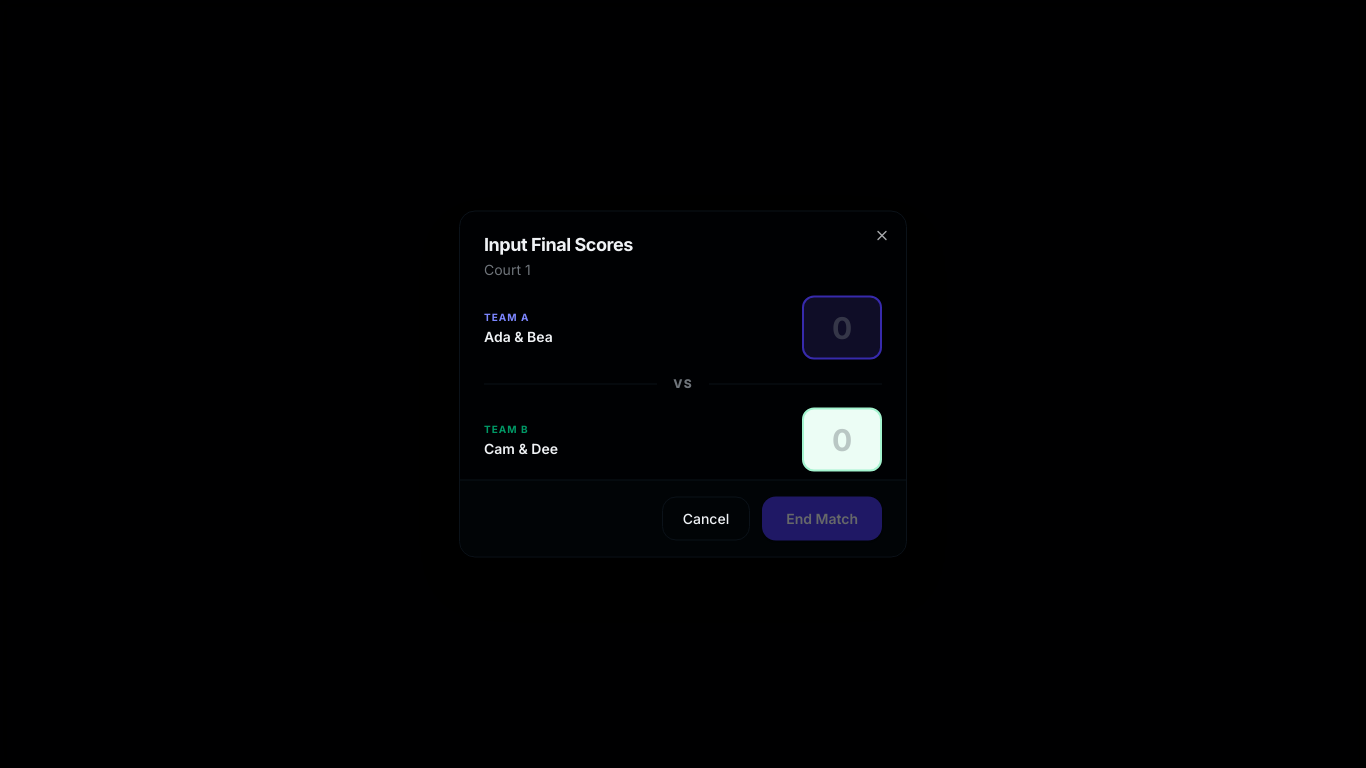
ScoreModal dismiss while pending › SM-1: Cancel stays enabled while Saving…
Type "21" into the number field with placeholder "0" in the row of "Ada & Bea" at point(842, 328), box [802, 296, 882, 360]
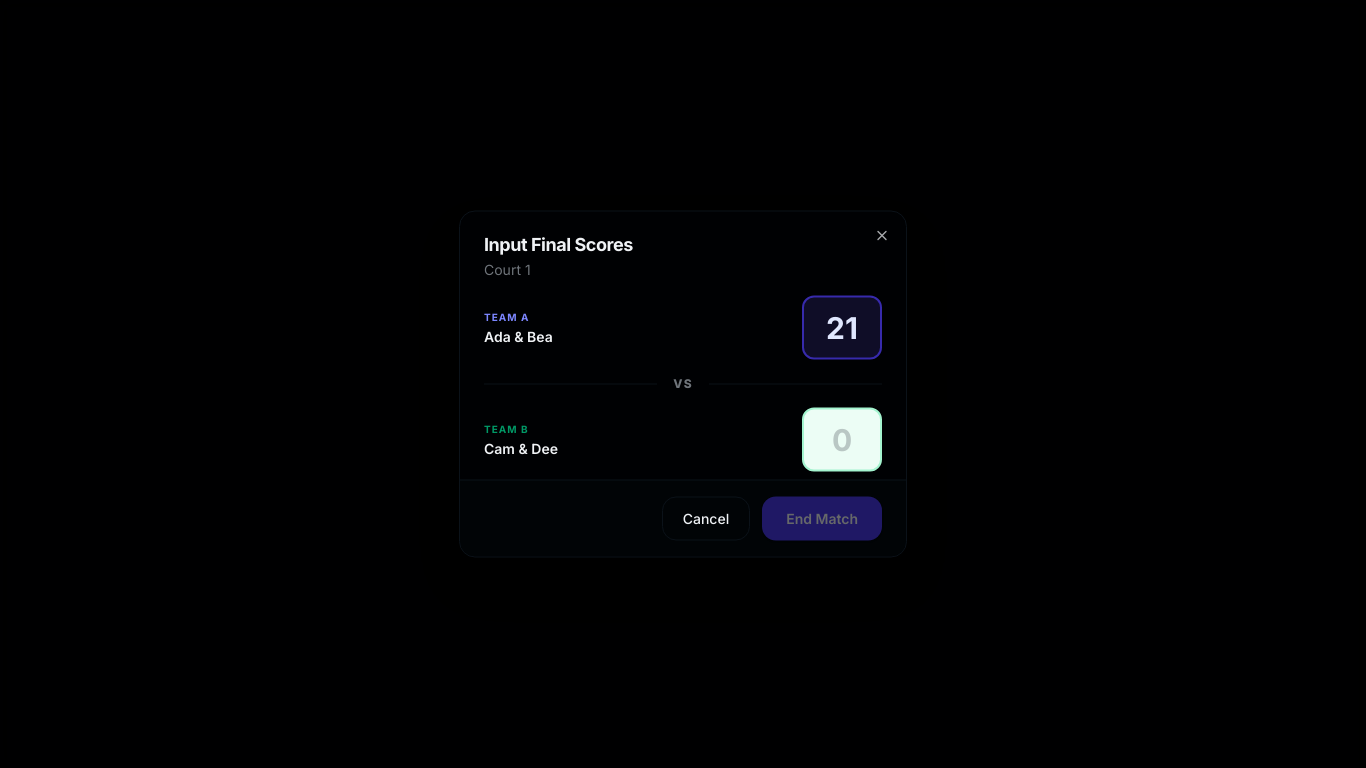
Type "18" into the number field with placeholder "0" at point(842, 440), box [802, 408, 882, 472]
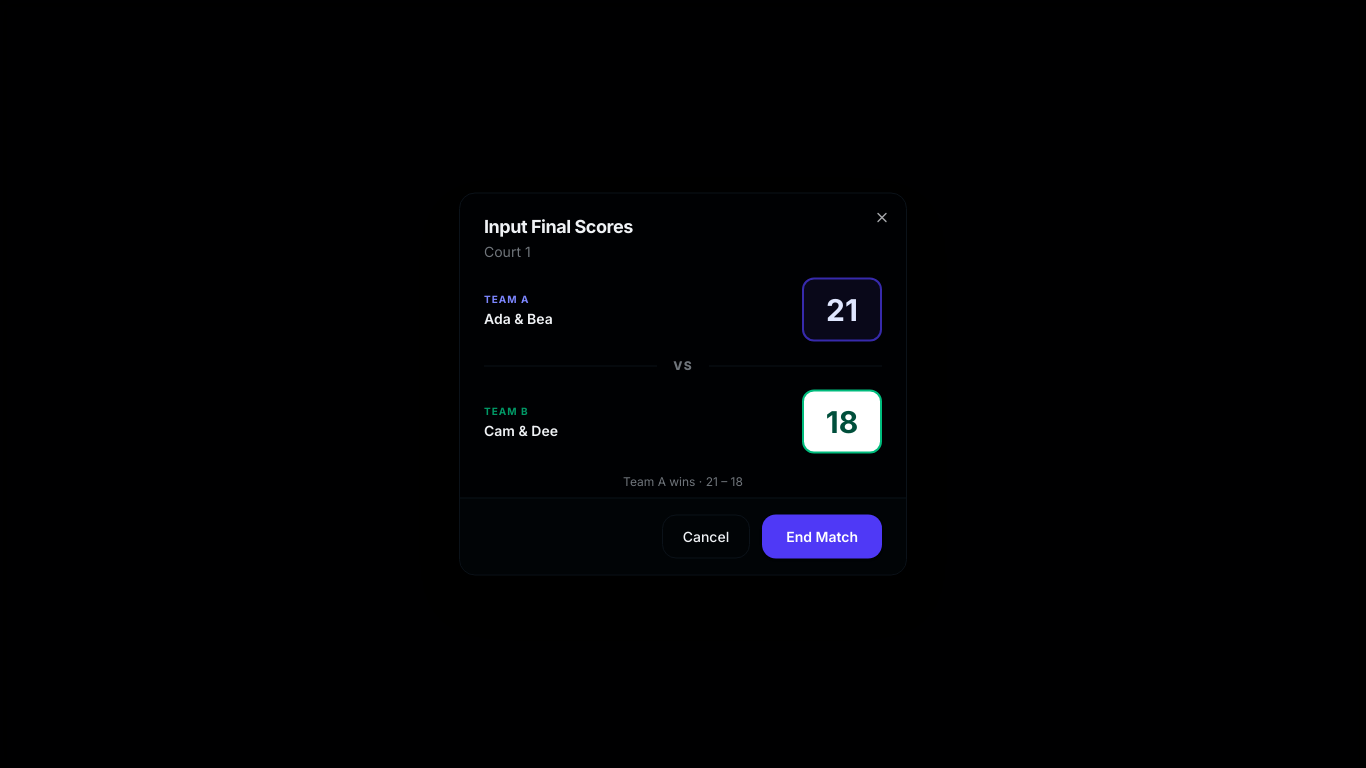
Click the button "End Match" at point(822, 536), box [762, 514, 882, 558]
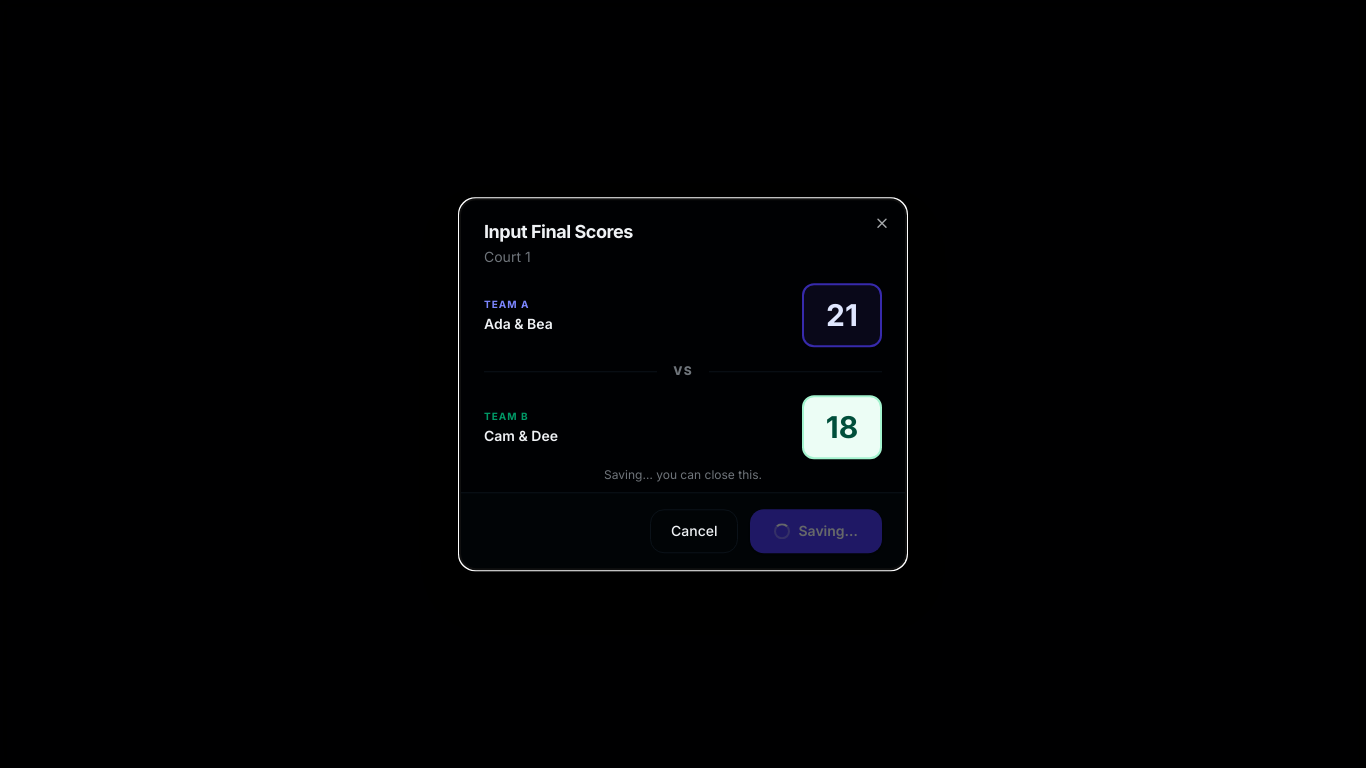
Expected: the button "Cancel" is enabled, [650, 509, 738, 553]
Expected: the button "Saving…" is shown, [750, 509, 882, 553]
Expected: the text "Saving… you can close this." is shown, [604, 467, 762, 482]
